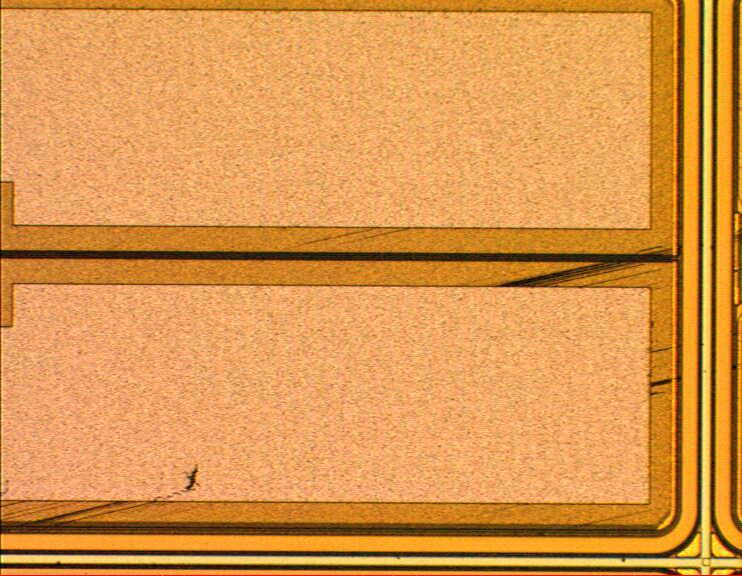SCRATCH: (2, 201, 742, 556)
